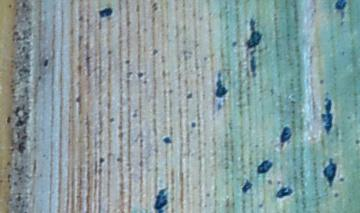tarspot: (246, 18, 262, 49), (321, 99, 333, 134), (322, 157, 336, 187), (215, 71, 228, 98), (155, 189, 168, 213), (281, 126, 293, 144), (257, 161, 273, 174), (276, 186, 293, 198), (249, 53, 257, 77), (98, 8, 113, 17), (242, 181, 252, 193), (334, 1, 347, 10), (162, 136, 173, 144), (73, 95, 82, 103), (151, 1, 158, 11), (151, 47, 159, 55), (5, 115, 12, 124), (217, 100, 222, 112), (185, 92, 193, 99), (332, 191, 339, 199), (266, 178, 274, 185), (203, 191, 211, 198), (105, 48, 112, 55), (201, 54, 208, 61), (43, 59, 49, 67), (99, 156, 105, 164), (7, 1, 13, 9), (142, 77, 148, 85), (137, 72, 144, 78), (124, 59, 131, 65), (191, 121, 197, 128), (231, 41, 238, 47), (131, 112, 138, 118), (115, 155, 121, 162), (84, 55, 91, 61), (339, 177, 345, 183), (109, 117, 115, 123), (257, 203, 264, 208), (37, 75, 42, 81), (319, 79, 324, 85), (354, 139, 360, 144), (277, 180, 281, 185)
